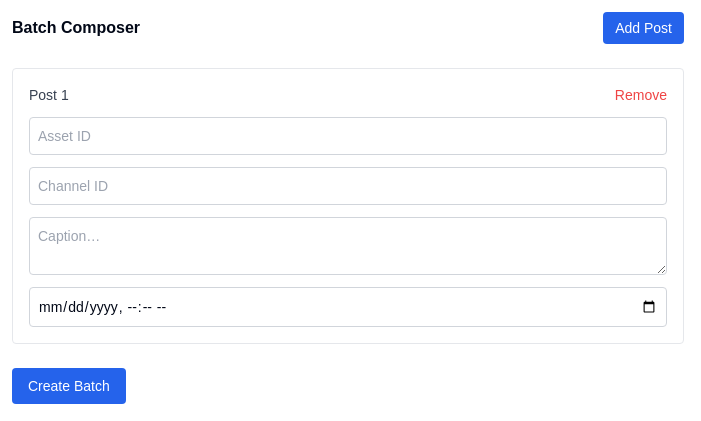
it: Batch publish flow integration › displays per-post status updates received via WebSocket
Click the button "Create Batch" at (69, 386), box x1=12 y1=368 x2=126 y2=404
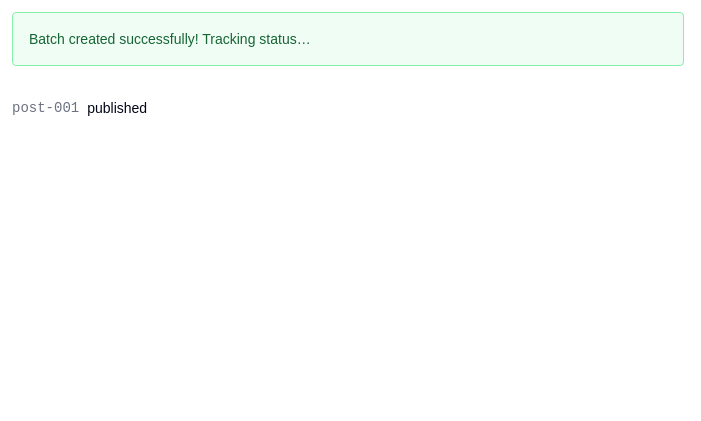
Now the text "Batch created successfully! Tracking status…" is shown, box x1=12 y1=12 x2=684 y2=66
Now the text "published" is shown, box x1=87 y1=98 x2=147 y2=118
